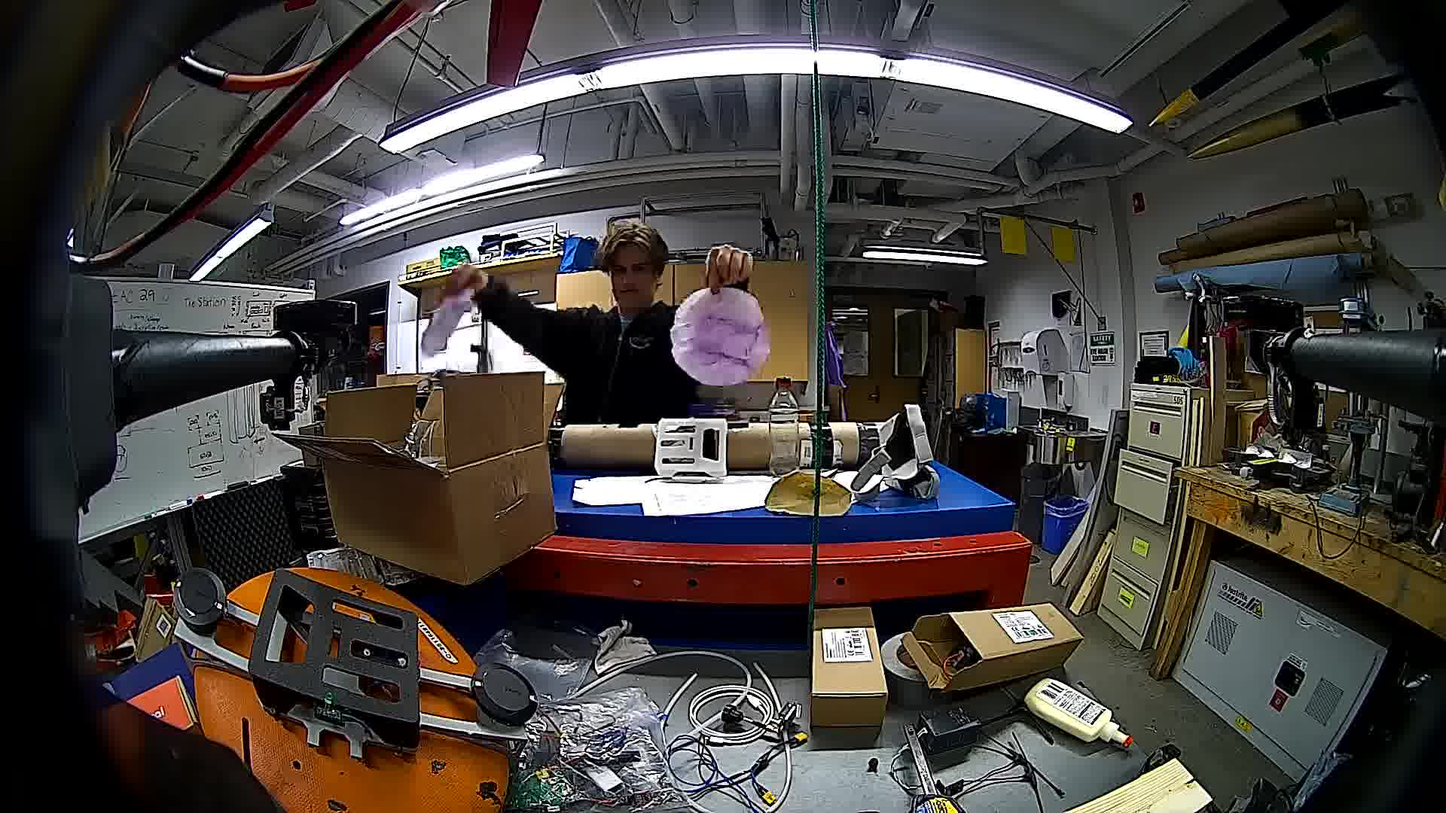Target: (670, 285, 771, 385), (421, 290, 475, 358)
